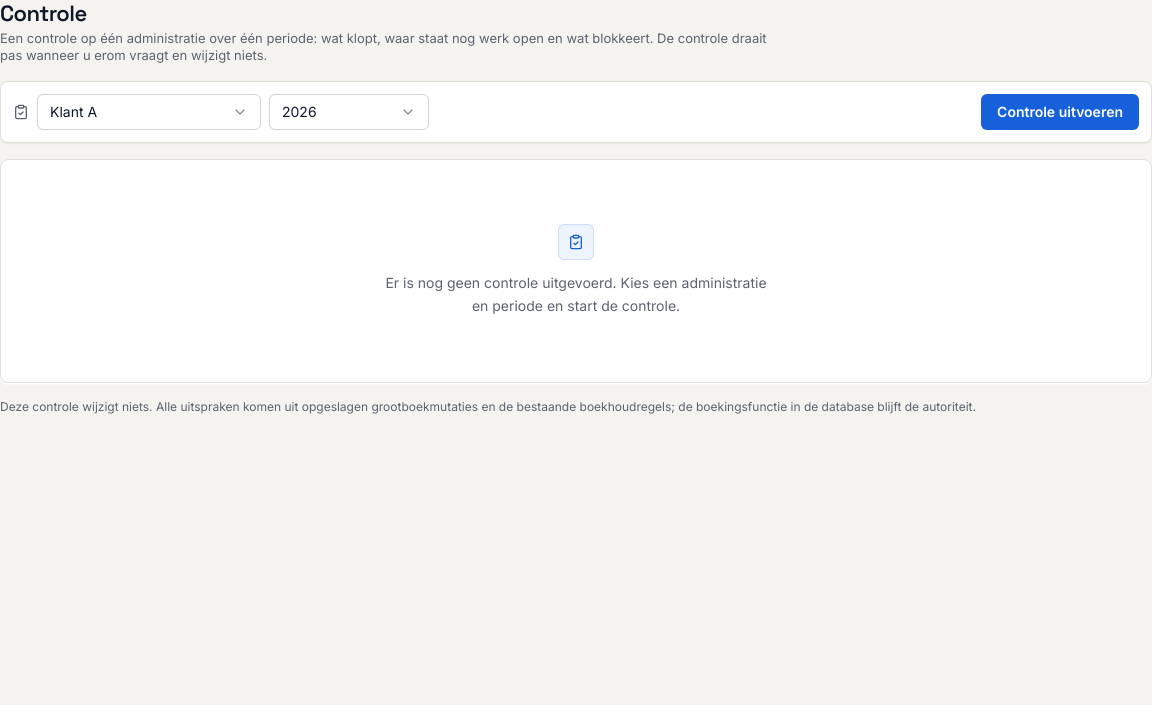
Test: fail closed op het scherm › 16. een technische storing meldt zich, en niet als 'alles akkoord'
The image size is (1152, 705).
Click the button with test id "controle-uitvoeren".
click(1060, 112)  # box 981,94 -> 1139,130
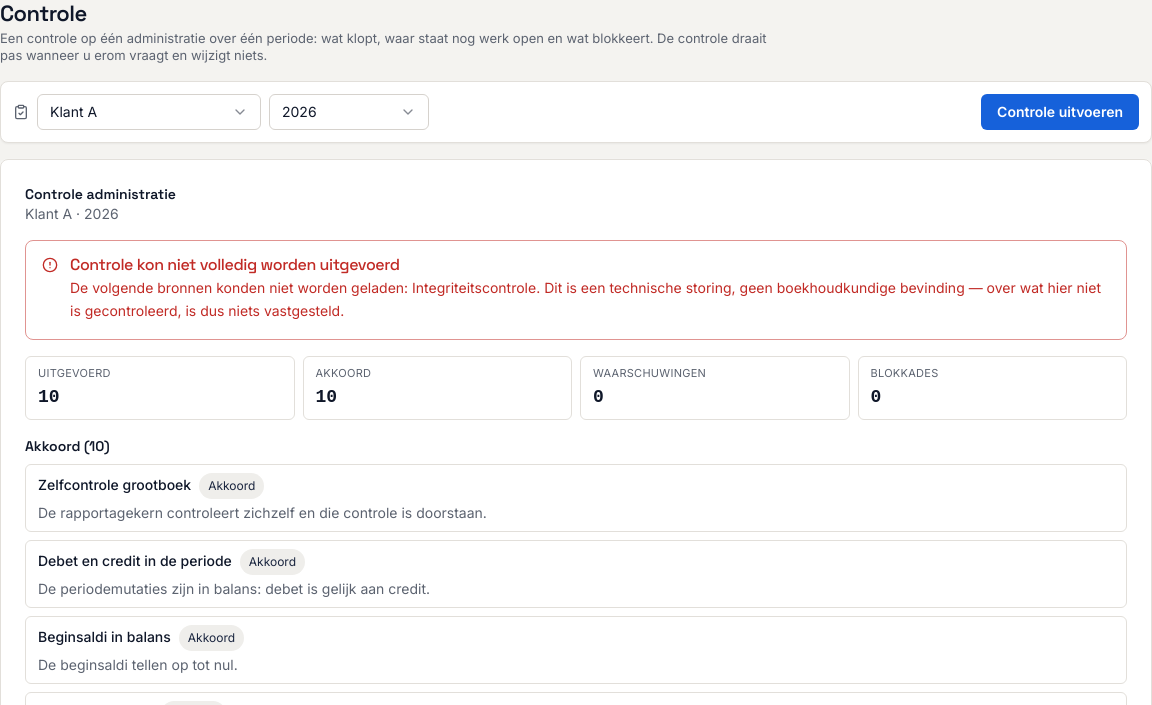
Expected: the element with test id "controle-onvolledig" shows "Integriteitscontrole", 412,279 -> 536,296
Expected: the element with test id "controle-onvolledig" shows "technische storing", 70,279 -> 1101,319
